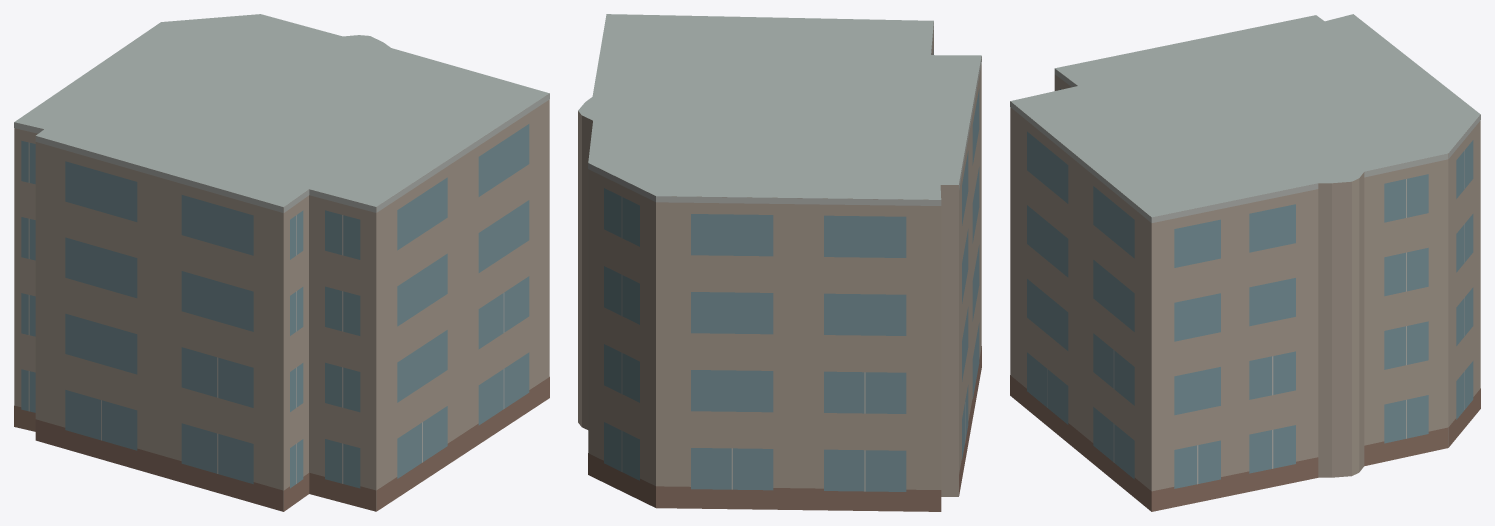
The model's file is survey-upis-32828645.glb.
3 views of the same model, side by side, from view 1: azimuth 30°, elevation 25°; view 2: azimuth 150°, elevation 25°; view 3: azimuth 270°, elevation 25° (orthographic). The views are drawn at different scales.
Visible parts, largest first — view 1: survey-upis-32828645.tmp; view 2: survey-upis-32828645.tmp; view 3: survey-upis-32828645.tmp.
Part boxes in pixels (bbox=[...]): survey-upis-32828645.tmp: bbox=[14, 14, 549, 511]; survey-upis-32828645.tmp: bbox=[578, 14, 981, 511]; survey-upis-32828645.tmp: bbox=[1010, 14, 1480, 511].
Bounding box in the file's own units: 18.38 × 12.4 × 17.96.
